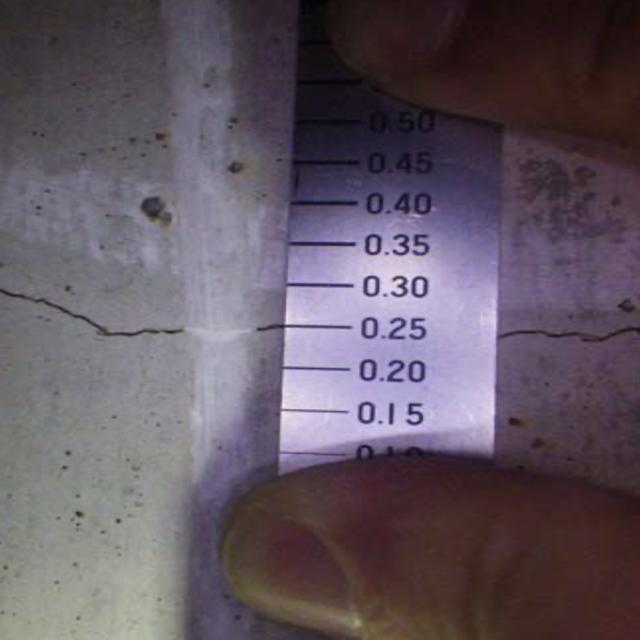crack: (0, 255, 311, 392), (494, 298, 640, 372)
